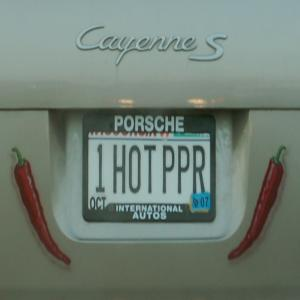Vehicle-registration-plate: (76, 115, 223, 235)
